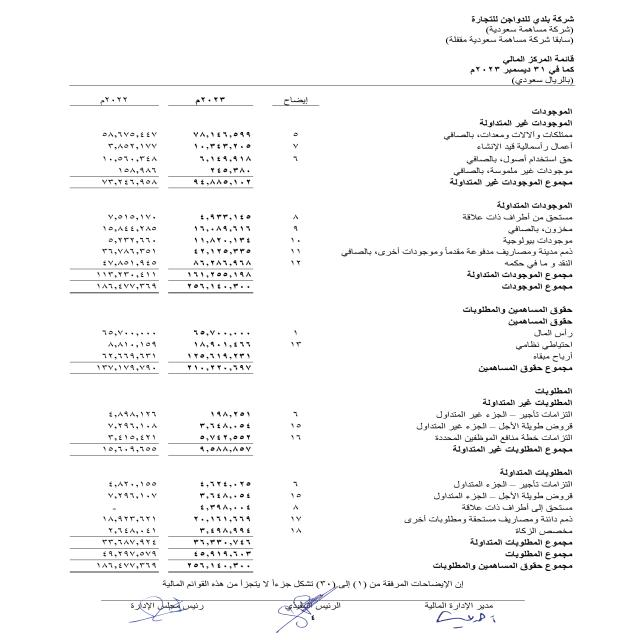financial_sheets: (499, 55, 587, 64)
table: (21, 80, 328, 578)
